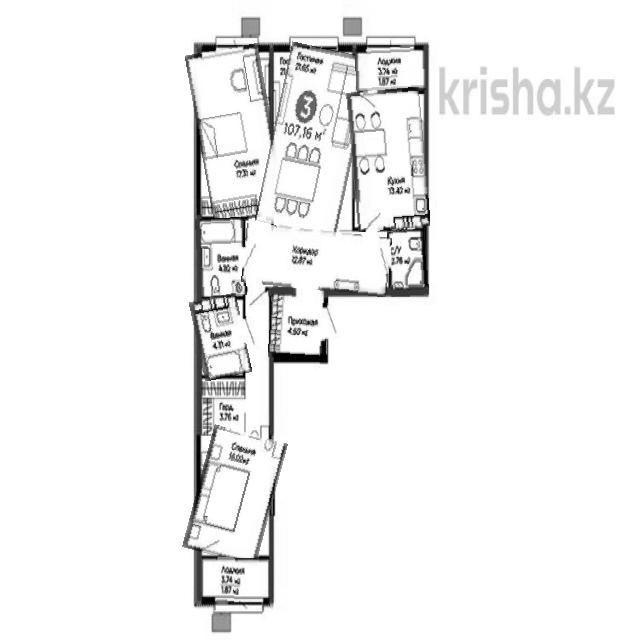balcony: (194, 558, 274, 604), (355, 47, 426, 92)
bathroom: (193, 294, 249, 379), (196, 218, 246, 297), (388, 228, 428, 296)
hallway: (243, 226, 391, 294), (269, 287, 327, 360)
kitchen: (349, 89, 428, 231)
living_room: (263, 45, 364, 234), (192, 46, 280, 222), (190, 428, 280, 563)
